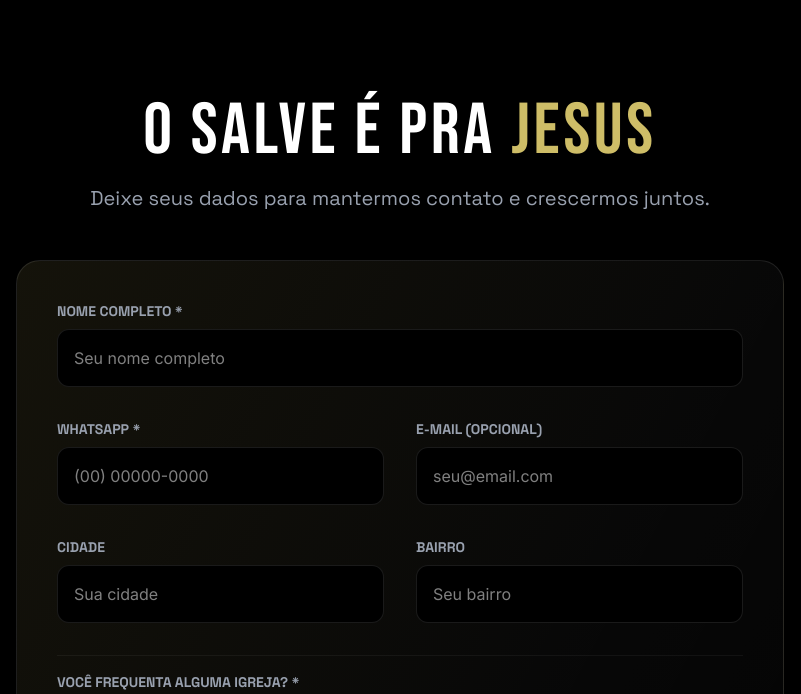
Test case: RegistrationForm › submit data and render success message
The image size is (801, 694).
Type "Maria Teste" into the field with placeholder "Seu nome completo" at x=400, y=358, box [57, 329, 743, 387]
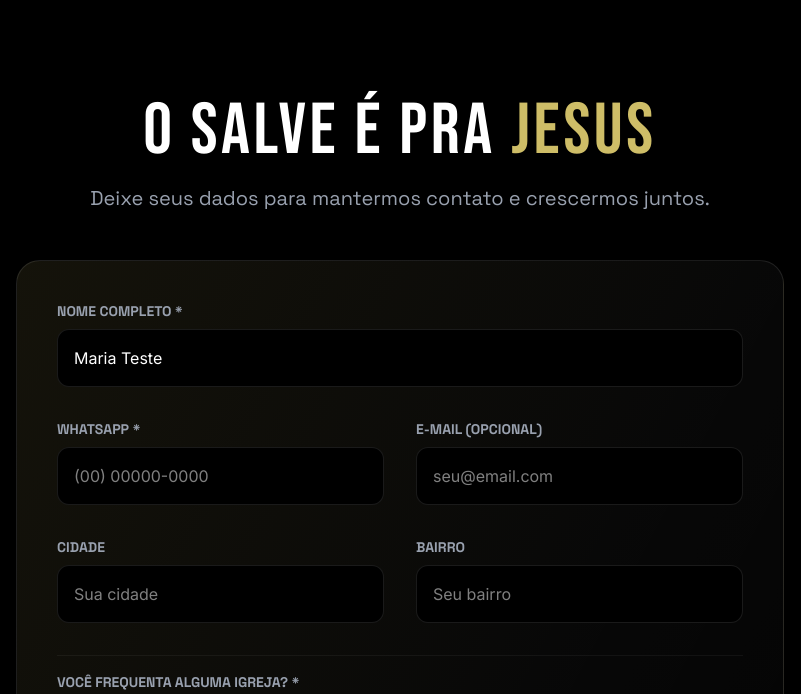
Type "11999999999" into the field with placeholder "(00) 00000-0000" at x=220, y=476, box [57, 447, 384, 505]
(page scrolled)
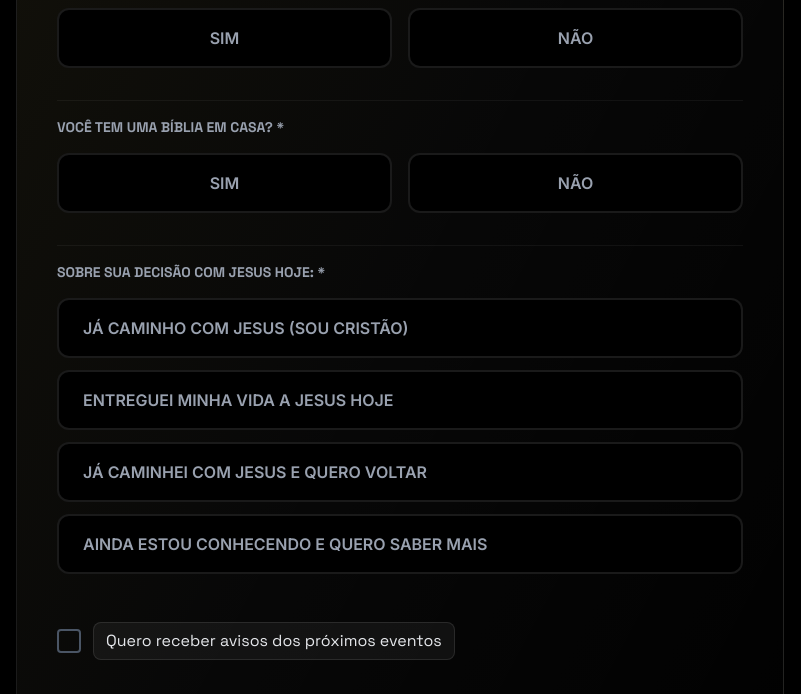
Click the button "ENTREGUEI MINHA VIDA A JESUS HOJE" at x=238, y=400, box [57, 370, 743, 430]
(page scrolled)
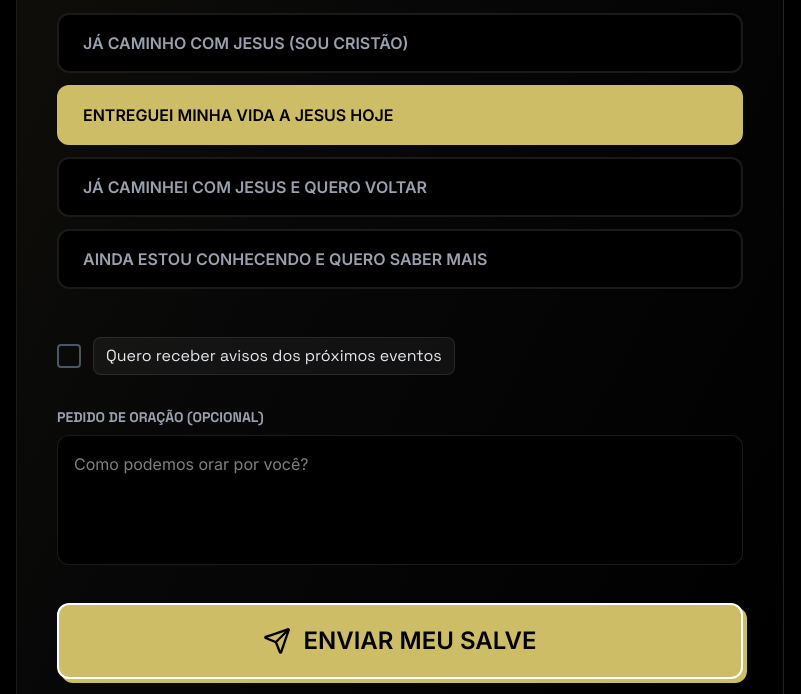
Click the button "ENVIAR MEU SALVE" at x=400, y=641, box [57, 603, 743, 679]
(page scrolled)
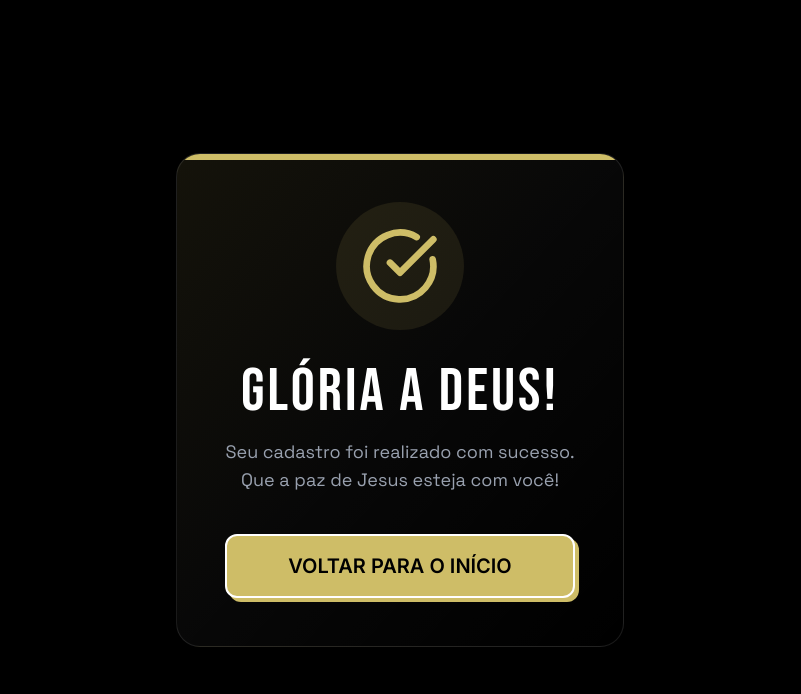
Expected: the heading "GLÓRIA A DEUS!" is shown, [225, 362, 575, 422]
